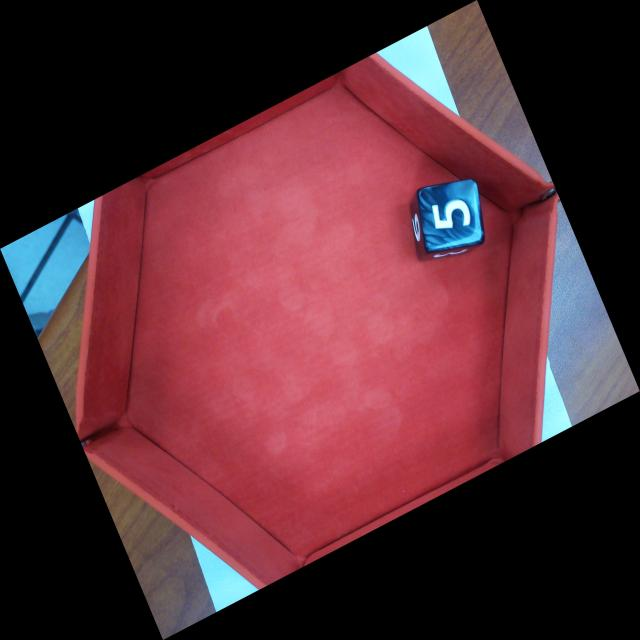dice: (424, 189, 479, 247)
